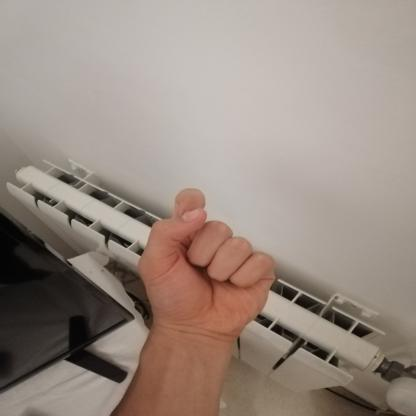FAA: (119, 176, 294, 352)
